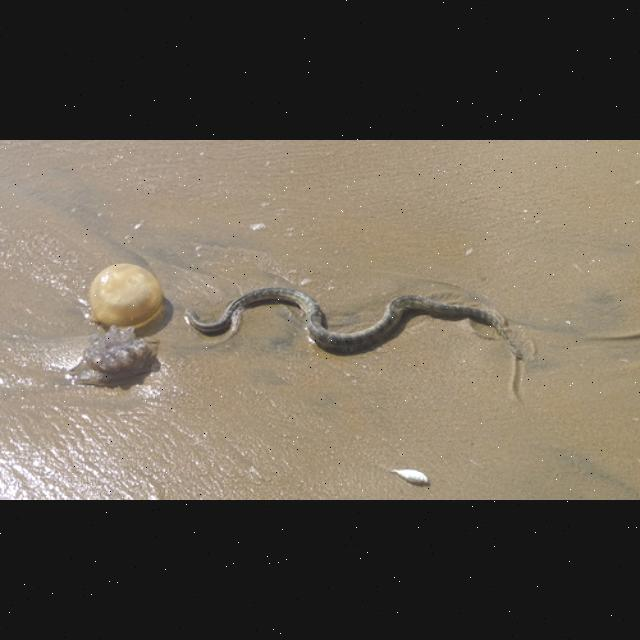snake: (185, 285, 528, 361)
